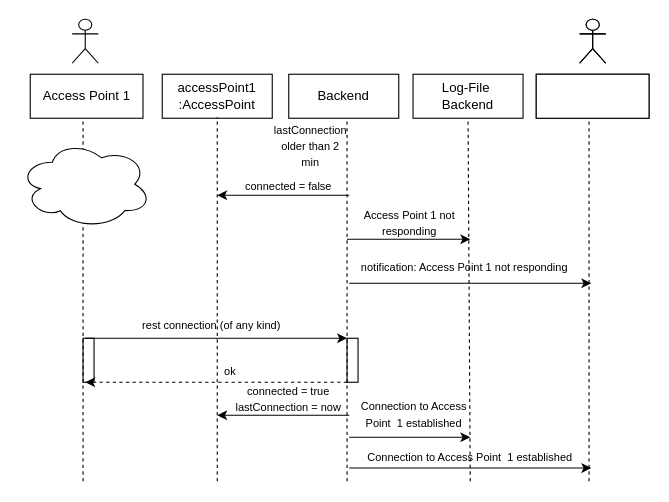
Some shapes in this 669 by 502 pixel diagram are drawn without their labels. The shapes that lost their labels are listed below. From the top down, each one's centre as x and y in pixels, then its label:
At point 592,95: "Elvis :Administrator".
At point 84,183: "Raspberry not responding".
